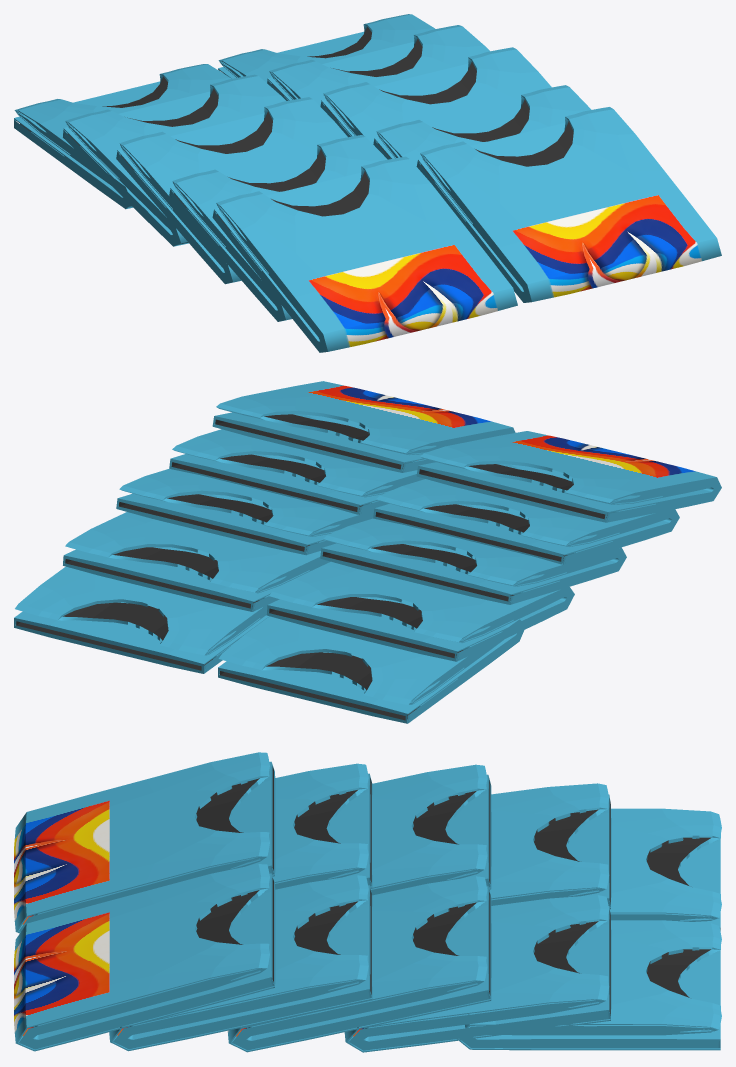
File: TShirtGroup.fbx
The picture shows the model from 3 angles, top to bottom: view 1: azimuth 30°, elevation 25°; view 2: azimuth 150°, elevation 25°; view 3: azimuth 270°, elevation 25°; orthographic projection. The views are drawn at different scales.
Parts seen in each view (by area): view 1: Shirt_Folded9, Shirt_Folded4, Shirt_Folded7, Shirt_Folded2, Shirt_Folded6, Shirt_Folded8, Shirt_Folded5, Shirt_Folded, Shirt_Folded3, Shirt_Folded1; view 2: Shirt_Folded5, Shirt_Folded9, Shirt_Folded6, Shirt_Folded4, Shirt_Folded1, Shirt_Folded, Shirt_Folded7, Shirt_Folded8, Shirt_Folded2, Shirt_Folded3; view 3: Shirt_Folded4, Shirt_Folded9, Shirt_Folded2, Shirt_Folded, Shirt_Folded1, Shirt_Folded3, Shirt_Folded6, Shirt_Folded7, Shirt_Folded5, Shirt_Folded8.
Part boxes in pixels (<box>): Shirt_Folded9: <box>212,156,517,352</box>; Shirt_Folded4: <box>416,107,721,302</box>; Shirt_Folded7: <box>116,97,347,284</box>; Shirt_Folded2: <box>320,47,551,143</box>; Shirt_Folded6: <box>63,74,285,246</box>; Shirt_Folded8: <box>169,135,387,321</box>; Shirt_Folded5: <box>14,64,231,209</box>; Shirt_Folded: <box>267,25,489,106</box>; Shirt_Folded3: <box>373,85,591,166</box>; Shirt_Folded1: <box>218,14,435,100</box>; Shirt_Folded5: <box>218,616,526,723</box>; Shirt_Folded9: <box>416,431,721,522</box>; Shirt_Folded6: <box>266,561,574,661</box>; Shirt_Folded4: <box>212,381,515,472</box>; Shirt_Folded1: <box>14,566,279,673</box>; Shirt_Folded: <box>63,512,330,611</box>; Shirt_Folded7: <box>320,518,626,604</box>; Shirt_Folded8: <box>373,479,679,564</box>; Shirt_Folded2: <box>116,468,378,555</box>; Shirt_Folded3: <box>169,429,425,514</box>; Shirt_Folded4: <box>14,864,275,1051</box>; Shirt_Folded9: <box>14,752,275,933</box>; Shirt_Folded2: <box>227,876,491,1052</box>; Shirt_Folded: <box>344,895,611,1052</box>; Shirt_Folded1: <box>455,920,721,1050</box>; Shirt_Folded3: <box>109,875,372,1051</box>; Shirt_Folded6: <box>489,783,611,909</box>; Shirt_Folded7: <box>370,764,491,895</box>; Shirt_Folded5: <box>610,808,721,930</box>; Shirt_Folded8: <box>273,763,372,889</box>.
Bounding box in the file's own units: 20.91 × 3.91 × 29.02.
2 materials, 1 textured.
